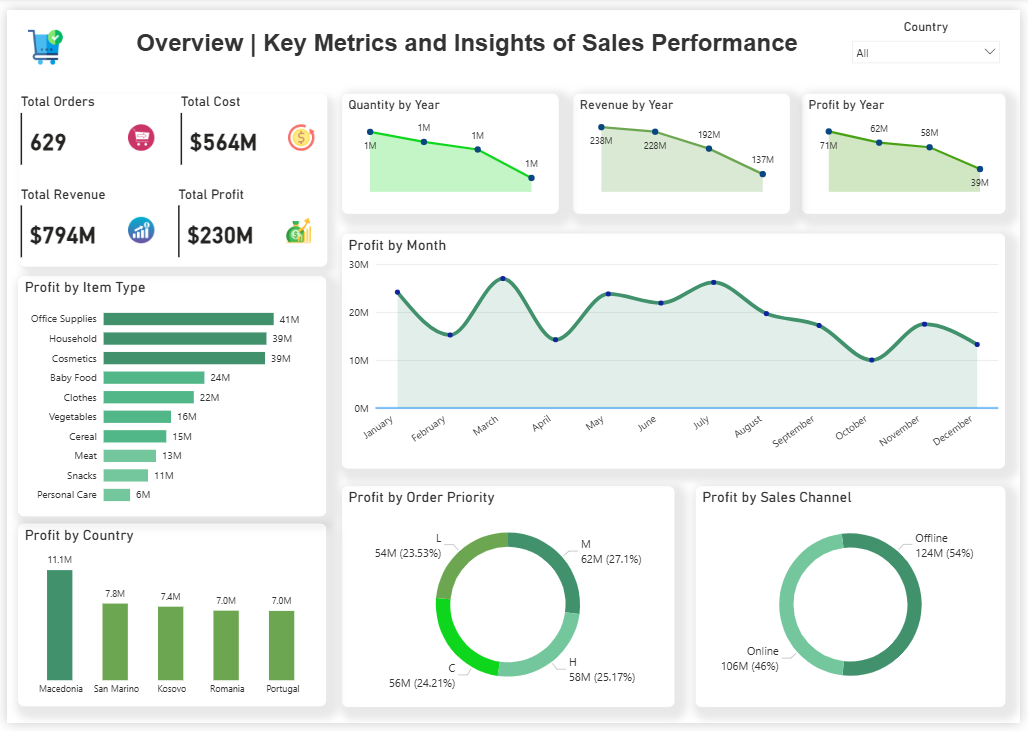

Layout of this report page (visuals, bound fields, positions):
{"tool":"powerbi","page":{"name":"SALES PERFORMANCE DASHBOARD","canvas":[1350,950],"ordinal":0},"visuals":[{"type":"barChart","title":"Profit by Item Type","fields":{"Category":["Europe Sales Records.Item Type"],"Y":["Sum(Europe Sales Records.Total Profit)"]},"box":[15.7,354.3,410,320],"z":0},{"type":"donutChart","title":"Profit by Order Priority","fields":{"Category":["Europe Sales Records.Order Priority"],"Y":["Sum(Europe Sales Records.Total Pro)"]},"box":[447.1,634.3,442.9,294.3],"z":1000},{"type":"donutChart","title":"Profit by Sales Channel","fields":{"Y":["Sum(Europe Sales Records.Total Profit)"],"Category":["Europe Sales Records.Sales Channel"]},"box":[918.6,634.3,412.9,294.3],"z":2000},{"type":"textbox","box":[145.7,21.4,945.7,45.7],"z":3000},{"type":"lineChart","title":"Profit by Month","fields":{"Category":["Europe Sales Records.Order Date.Variation.Date Hierarchy.Month"],"Y":["Sum(Europe Sales Records.Total Pro)"]},"box":[447.1,298.6,884.3,312.9],"z":4000},{"type":"columnChart","title":"Profit by Country","fields":{"Category":["Europe Sales Records.Country"],"Y":["Sum(Europe Sales Records.Total Pro)"]},"box":[15.7,685.7,410,242.9],"z":5000},{"type":"slicer","title":"Country","fields":{"Values":["Europe Sales Records.Country"]},"box":[1117.1,11.4,217.1,77.1],"z":6000},{"type":"image","box":[1065.7,177.1,51.4,51.4],"z":7000},{"type":"image","box":[15.7,177.1,62.9,51.4],"z":8000},{"type":"areaChart","title":"Profit by Year","fields":{"Category":["Europe Sales Records.Year"],"Y":["Sum(Europe Sales Records.Total Profit)"]},"box":[1060,111.4,271.4,160],"z":9000},{"type":"areaChart","title":"Revenue by Year","fields":{"Category":["Europe Sales Records.Year"],"Y":["Sum(Europe Sales Records.Total Revenue)"]},"box":[755.7,111.4,288.6,160],"z":10000},{"type":"areaChart","title":"Quantity by Year","fields":{"Category":["Europe Sales Records.Year"],"Y":["Sum(Europe Sales Records.Quantity)"]},"box":[447.1,111.4,288.6,160],"z":11000},{"type":"shape","box":[16,111.7,410.6,230.7],"z":12000},{"type":"cardVisual","title":"Total Profit","fields":{"Data":["Europe Sales Records.Total Profit"]},"box":[223.4,235,200.2,100.1],"z":13000},{"type":"cardVisual","title":"Total Revenue","fields":{"Data":["Europe Sales Records.Total Revenue"]},"box":[13.1,235,200.2,100.1],"z":14000},{"type":"cardVisual","title":"Total Orders","fields":{"Data":["CountNonNull(Europe Sales Records.Order ID)"]},"box":[13.1,111.7,200.2,100.1],"z":15000},{"type":"cardVisual","title":"Total Cost","fields":{"Data":["Europe Sales Records.Total Cost"]},"box":[226.3,111.7,200.2,100.1],"z":16000},{"type":"image","box":[0,21.8,103,56.6],"z":17000}]}

Visuals, with their boxes in screenshot pixels (x1, y1, x2, y2), scaled from the page's 1350x950 canvas onto the 1028x731 screenshot:
"Profit by Item Type" barChart: 12 273 324 519
"Profit by Order Priority" donutChart: 340 488 678 715
"Profit by Sales Channel" donutChart: 699 488 1014 715
textbox: 111 16 831 52
"Profit by Month" lineChart: 340 230 1014 471
"Profit by Country" columnChart: 12 528 324 715
"Country" slicer: 851 9 1016 68
image: 812 136 851 176
image: 12 136 60 176
"Profit by Year" areaChart: 807 86 1014 209
"Revenue by Year" areaChart: 575 86 795 209
"Quantity by Year" areaChart: 340 86 560 209
shape: 12 86 325 263
"Total Profit" cardVisual: 170 181 323 258
"Total Revenue" cardVisual: 10 181 162 258
"Total Orders" cardVisual: 10 86 162 163
"Total Cost" cardVisual: 172 86 325 163
image: 0 17 78 60
